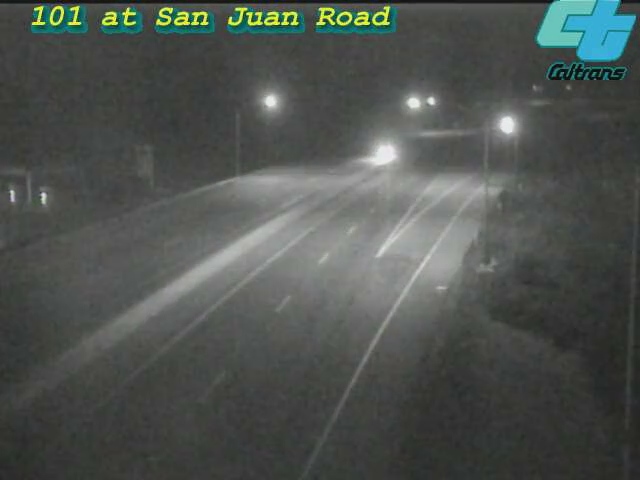vehicle: (360, 130, 410, 180), (481, 100, 531, 150)
